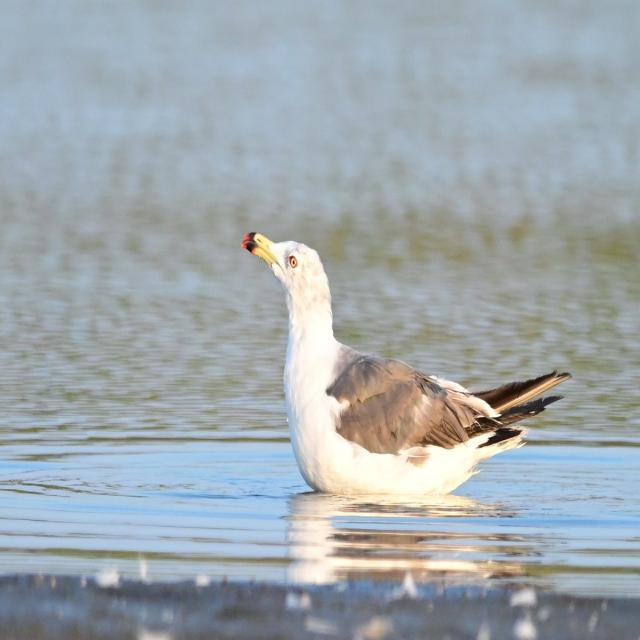bird: (238, 224, 571, 506)
